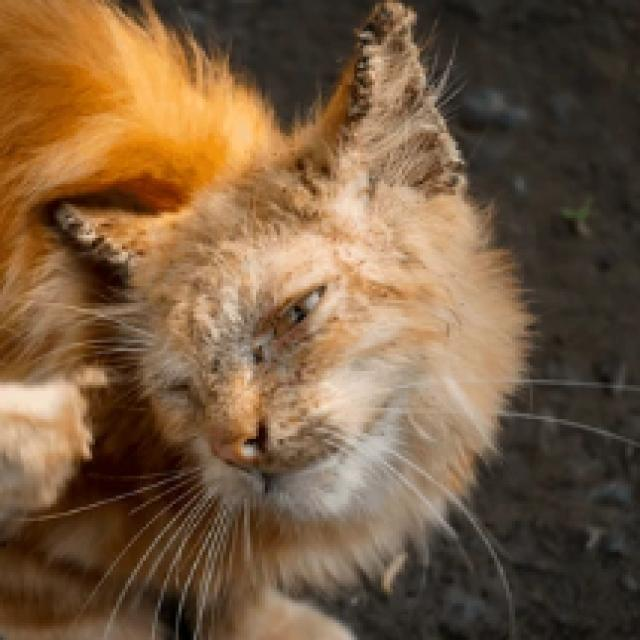Mange: (341, 1, 427, 137), (59, 202, 138, 271), (415, 109, 466, 201), (200, 346, 248, 388), (243, 328, 279, 376), (286, 348, 320, 388), (183, 267, 212, 288)
